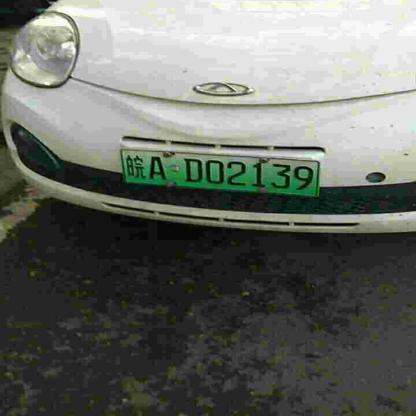lp: (122, 150, 319, 196)
